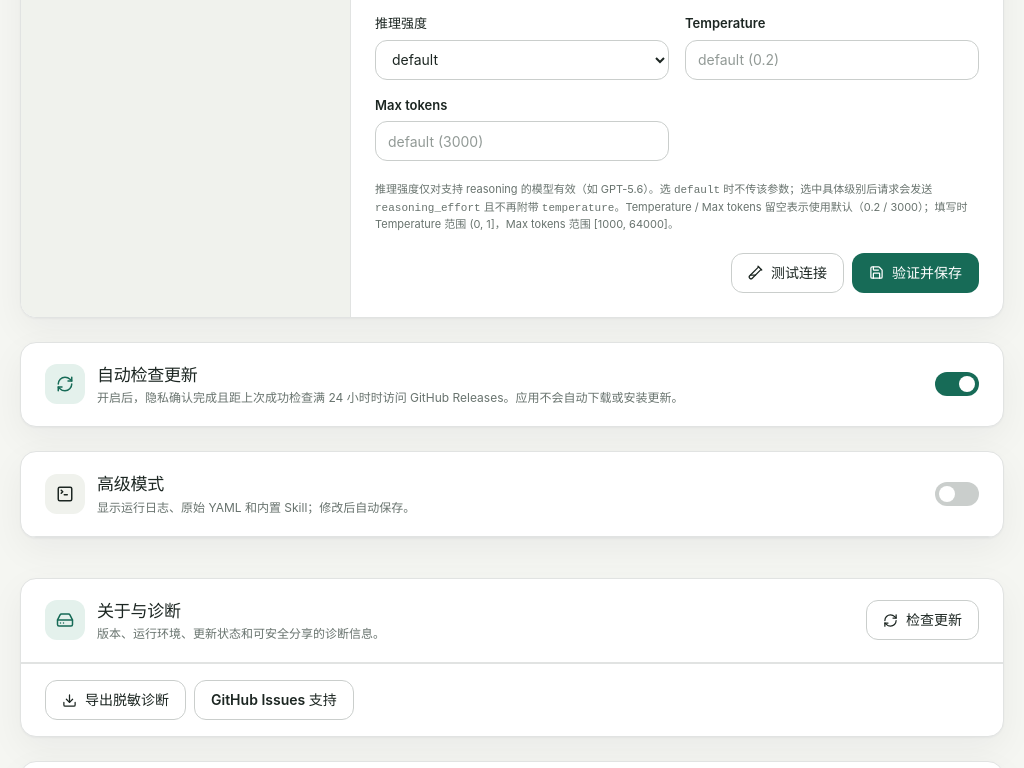
settings page › persists disabling automatic update checks while keeping manual checks available
(page scrolled)
Click the checkbox named "自动检查更新" at coordinates (957, 384), box left=935, top=372, right=979, bottom=396
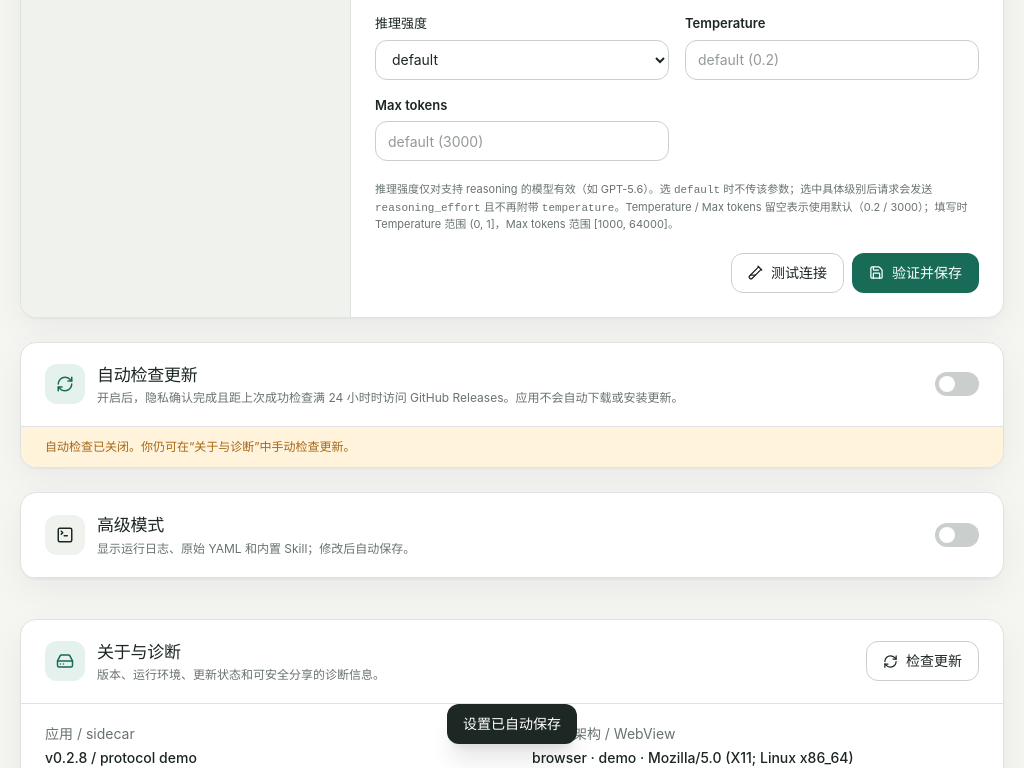
Expected: the button "检查更新" is enabled, left=866, top=641, right=979, bottom=681
Result: the text "自动检查已关闭。你仍可在“关于与诊断”中手动检查更新。" is shown at left=21, top=426, right=1003, bottom=467
